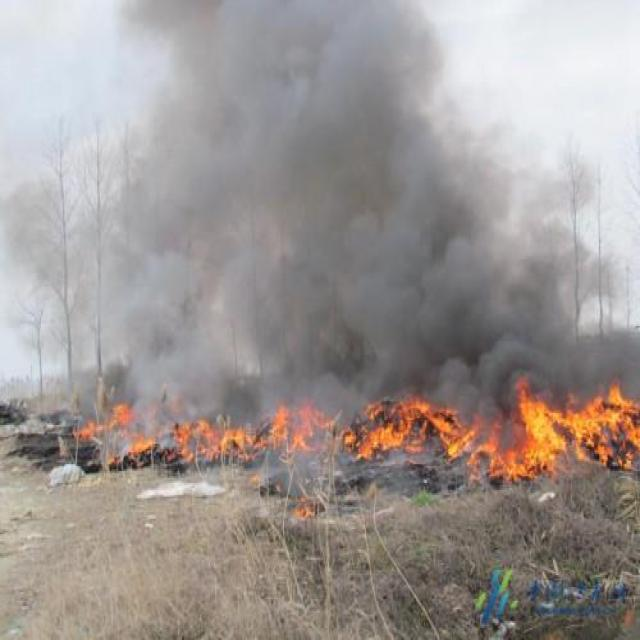fire: (58, 348, 636, 506)
smoke: (123, 13, 616, 368)
